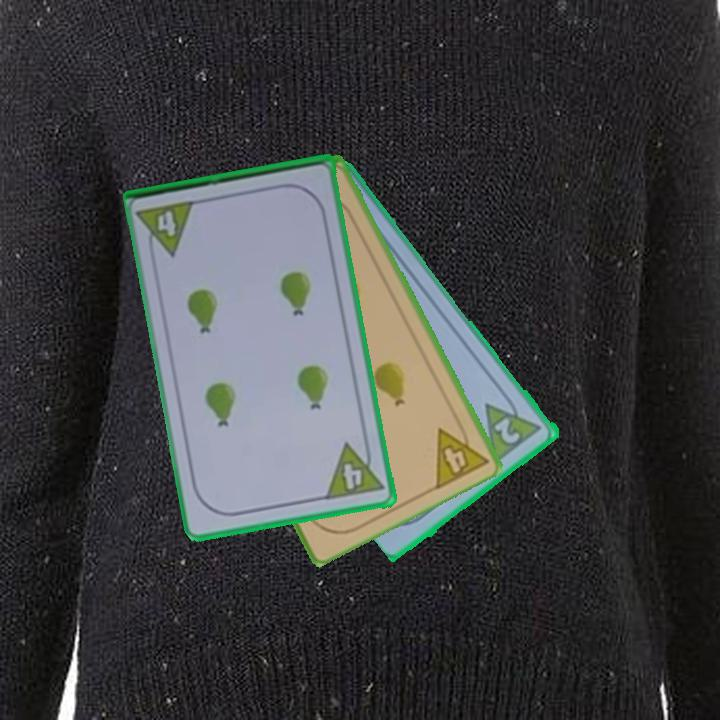2p: (491, 414, 524, 447)
4p: (431, 413, 491, 492), (322, 436, 386, 503), (135, 197, 199, 262)
